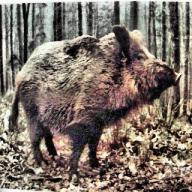boar: (8, 24, 181, 178)
